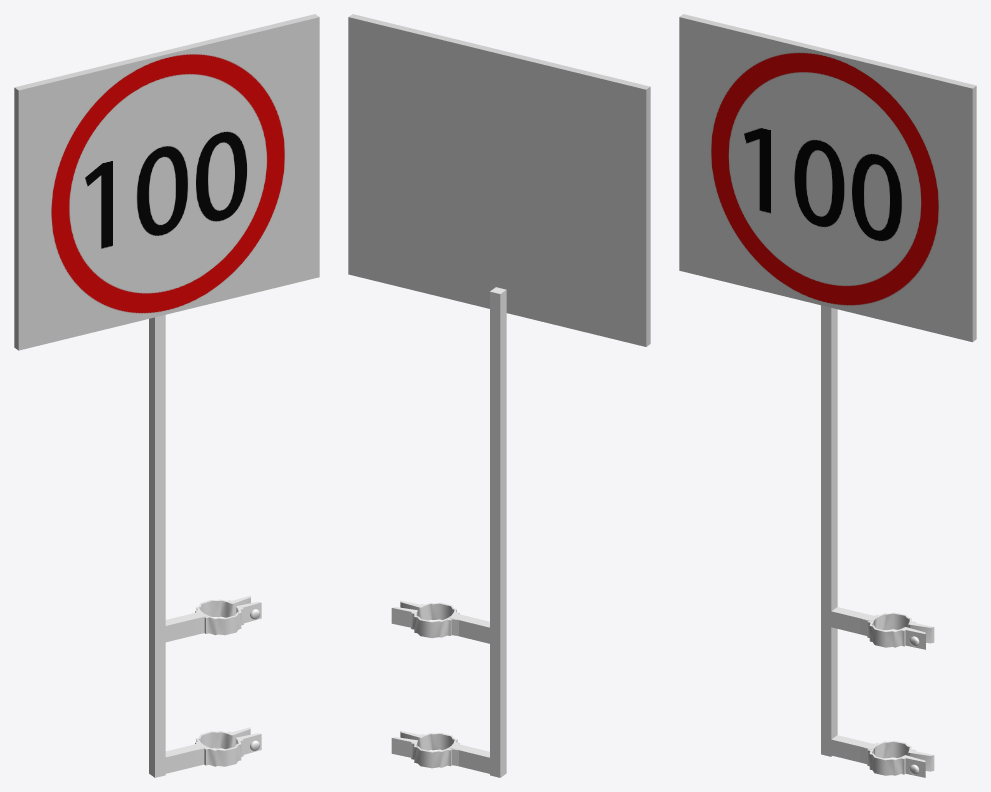
The picture shows the model from 3 angles, left to right: view 1: azimuth 30°, elevation 25°; view 2: azimuth 150°, elevation 25°; view 3: azimuth 330°, elevation 25°; orthographic projection. The views are drawn at different scales.
Parts seen in each view (by area): view 1: 立方体.1-材质.4, 立方体, 立方体.1-材质.2, pCube31, pCube20, 立方体.1, 立方体.2; view 2: 立方体.1-材质.2, 立方体, pCube20, pCube31, 立方体.2, 立方体.1; view 3: 立方体.1-材质.4, 立方体, 立方体.1-材质.2, pCube31, pCube20, 立方体.2, 立方体.1.
Part boxes in pixels (<box>): 立方体.1-材质.4: <box>18,17,319,350</box>; 立方体: <box>149,315,165,777</box>; 立方体.1-材质.2: <box>14,14,318,350</box>; pCube31: <box>194,595,261,635</box>; pCube20: <box>194,727,261,766</box>; 立方体.1: <box>165,611,206,642</box>; 立方体.2: <box>165,743,206,773</box>; 立方体.1-材质.2: <box>348,14,650,346</box>; 立方体: <box>490,287,506,777</box>; pCube20: <box>391,730,459,768</box>; pCube31: <box>391,600,459,638</box>; 立方体.2: <box>449,743,491,774</box>; 立方体.1: <box>449,613,491,644</box>; 立方体.1-材质.4: <box>679,17,972,342</box>; 立方体: <box>821,305,837,756</box>; 立方体.1-材质.2: <box>679,14,976,341</box>; pCube31: <box>860,612,934,649</box>; pCube20: <box>860,740,934,777</box>; 立方体.2: <box>831,735,877,762</box>; 立方体.1: <box>831,607,877,634</box>.
Bounding box in the file's own units: 7.01 × 16.13 × 0.9508.
4 materials, 1 textured.
